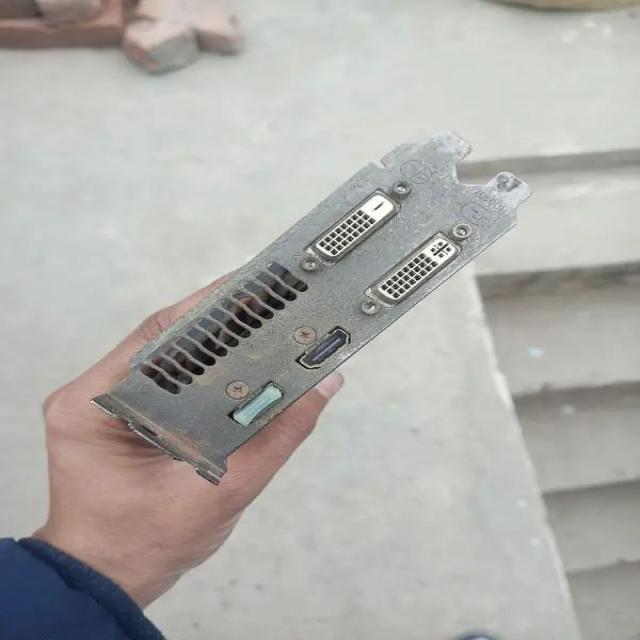electronic: (89, 128, 532, 485)
